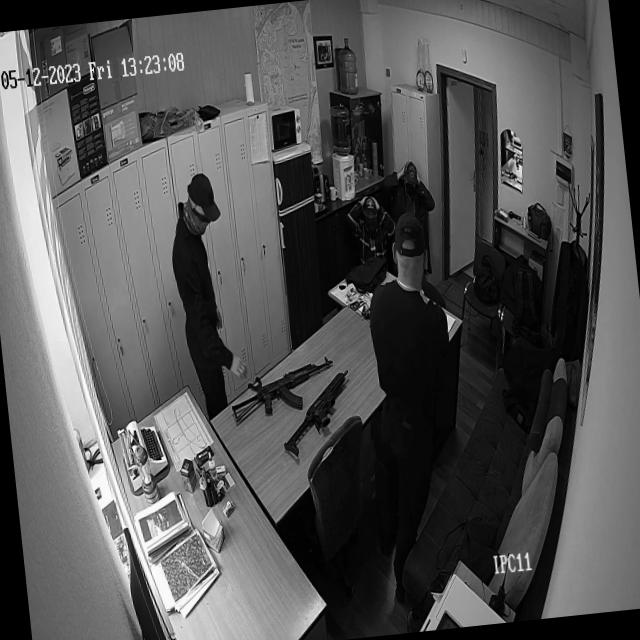gun: (225, 347, 336, 412), (306, 370, 356, 428)
person: (356, 208, 466, 540), (160, 167, 249, 386), (378, 156, 434, 220), (344, 190, 396, 253)
